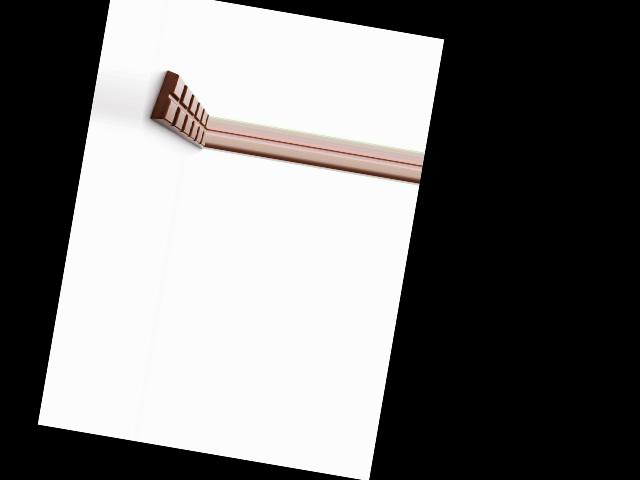chocolate: (144, 68, 215, 153)
